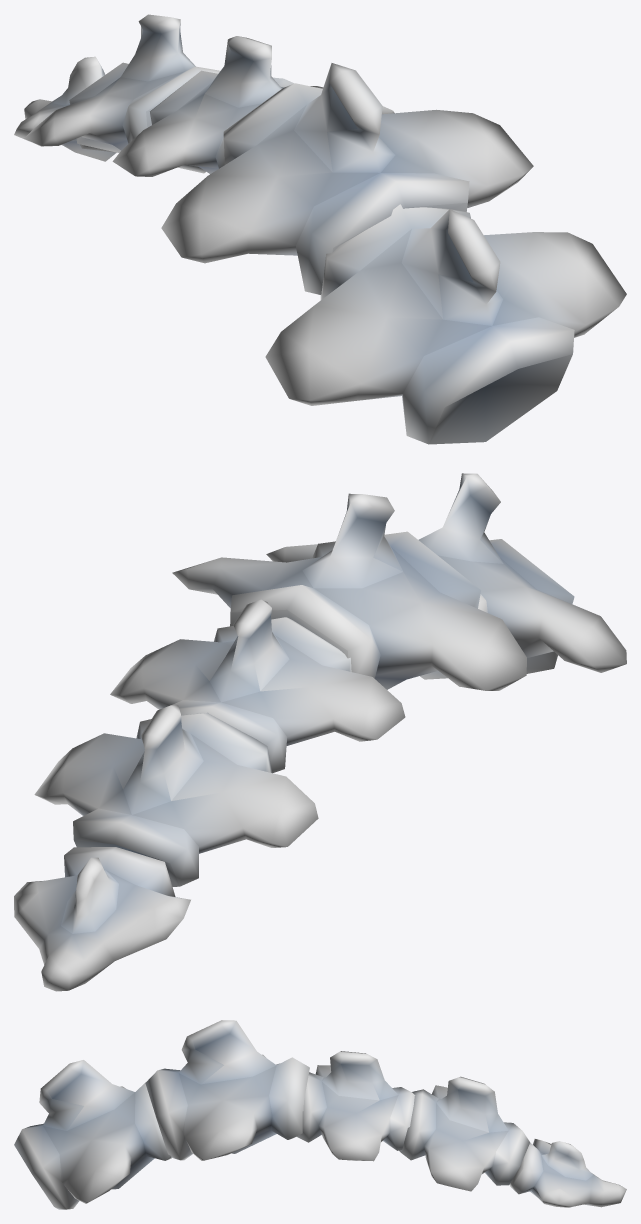
Rendered from TailPieces.gltf.
3 renders of one model, top to bottom at view 1: azimuth 30°, elevation 25°; view 2: azimuth 150°, elevation 25°; view 3: azimuth 270°, elevation 25°, orthographic. The views are drawn at different scales.
Visible parts, largest first — view 1: TailPiece5, TailPiece4, TailPiece3, TailPiece2, TailPiece1; view 2: TailPiece4, TailPiece2, TailPiece3, TailPiece1, TailPiece5; view 3: TailPiece4, TailPiece5, TailPiece2, TailPiece3, TailPiece1.
Part boxes in pixels (x1=…): TailPiece5: x1=265, y1=204, x2=626, y2=444; TailPiece4: x1=161, y1=63, x2=533, y2=294; TailPiece3: x1=112, y1=36, x2=394, y2=176; TailPiece2: x1=24, y1=14, x2=293, y2=173; TailPiece1: x1=14, y1=56, x2=116, y2=161; TailPiece4: x1=172, y1=493, x2=526, y2=690; TailPiece2: x1=34, y1=705, x2=318, y2=886; TailPiece3: x1=110, y1=599, x2=405, y2=773; TailPiece1: x1=14, y1=847, x2=190, y2=991; TailPiece5: x1=266, y1=473, x2=626, y2=686; TailPiece4: x1=145, y1=1020, x2=309, y2=1160; TailPiece5: x1=14, y1=1060, x2=171, y2=1209; TailPiece2: x1=399, y1=1076, x2=529, y2=1191; TailPiece3: x1=296, y1=1051, x2=415, y2=1161; TailPiece1: x1=509, y1=1139, x2=626, y2=1207.
Bounding box in the file's own units: 2.24 × 1.76 × 5.31.
